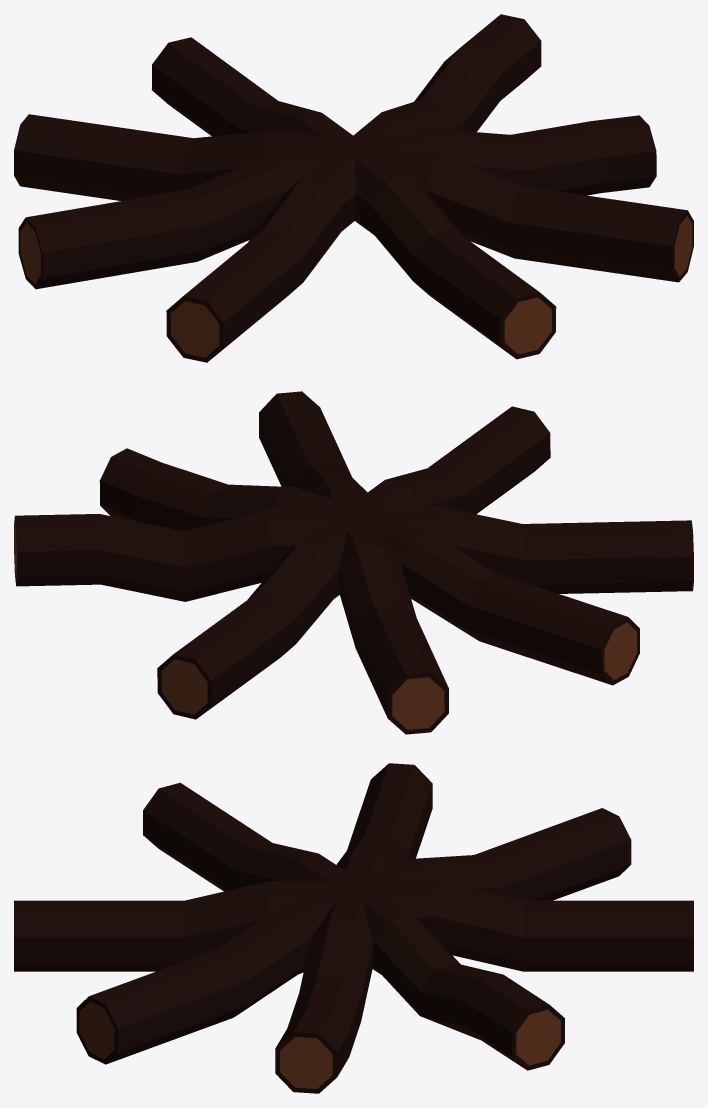
File: Campfire.FBX
The picture shows the model from 3 angles, top to bottom: view 1: azimuth 30°, elevation 25°; view 2: azimuth 150°, elevation 25°; view 3: azimuth 270°, elevation 25°; orthographic projection. The views are drawn at different scales.
Parts seen in each view (by area): view 1: Campfire; view 2: Campfire; view 3: Campfire.
Part boxes in pixels (box(x1,y1,x2,y2)): Campfire: box(14, 14, 693, 362); Campfire: box(14, 391, 693, 734); Campfire: box(14, 763, 693, 1093).
Bounding box in the file's own units: 26.63 × 3.63 × 28.06.
